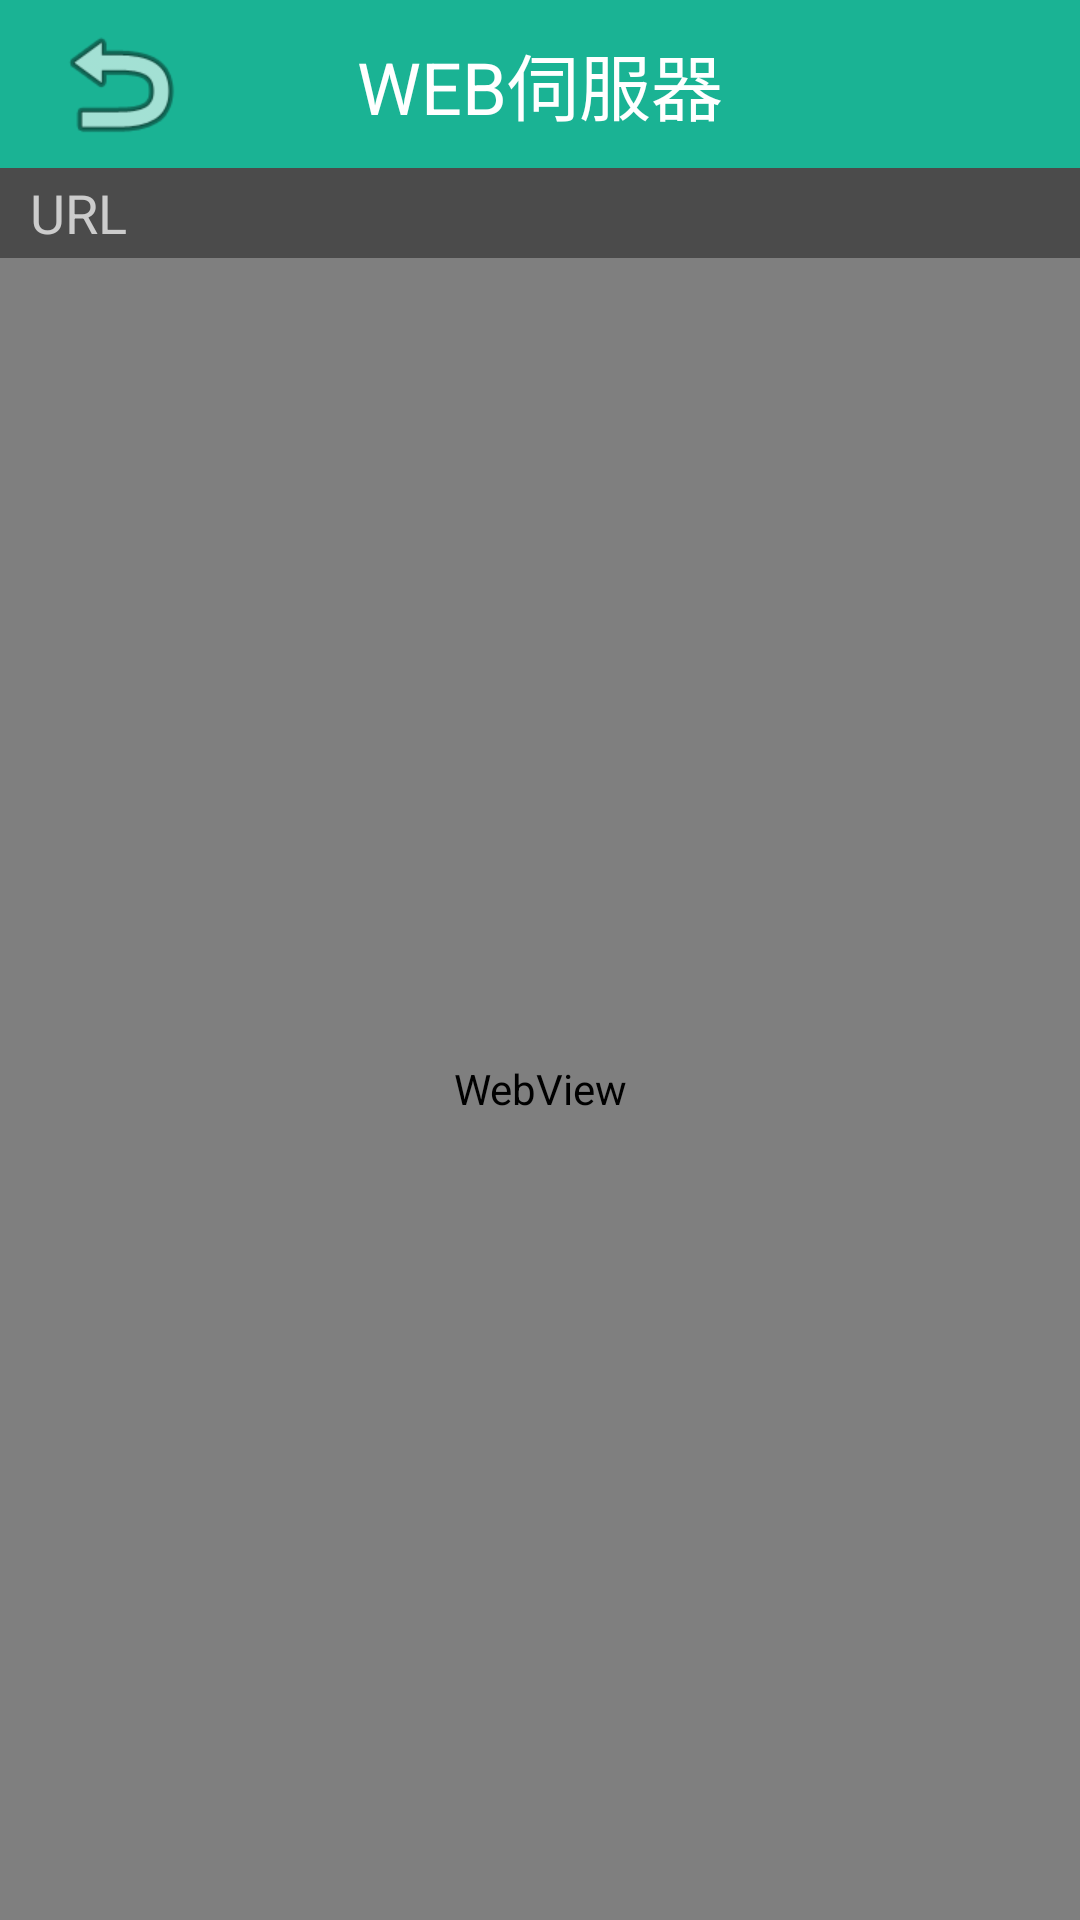

Locate icon controls on the screen. Image size 1080x1920, boxes as {"x1": x1, "y1": y1, "x2": x2, "y2": y2}.
revert: {"x1": 70, "y1": 38, "x2": 174, "y2": 132}
